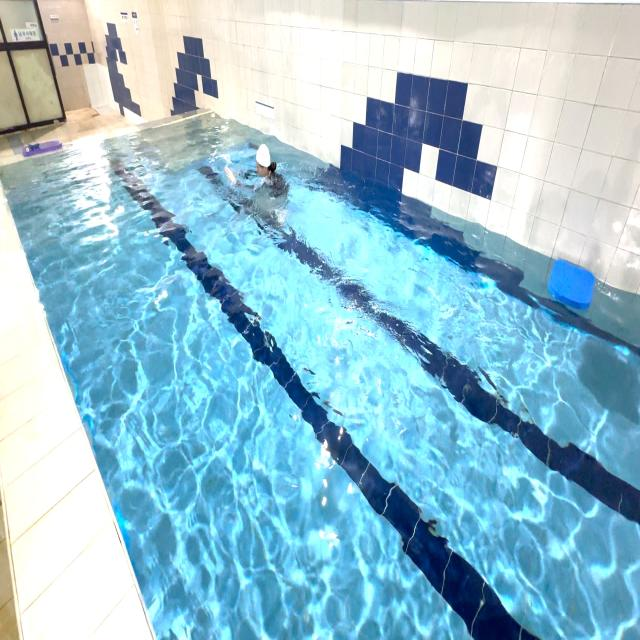Drowning: (214, 140, 290, 232)
